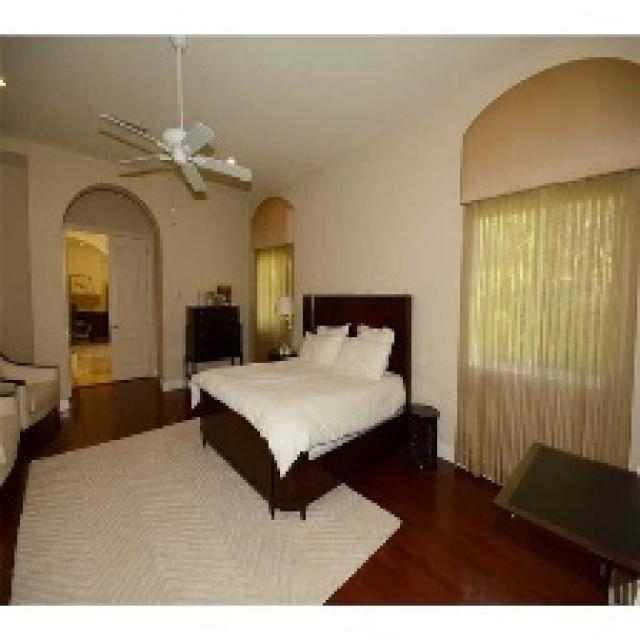Bed: (186, 291, 411, 520)
